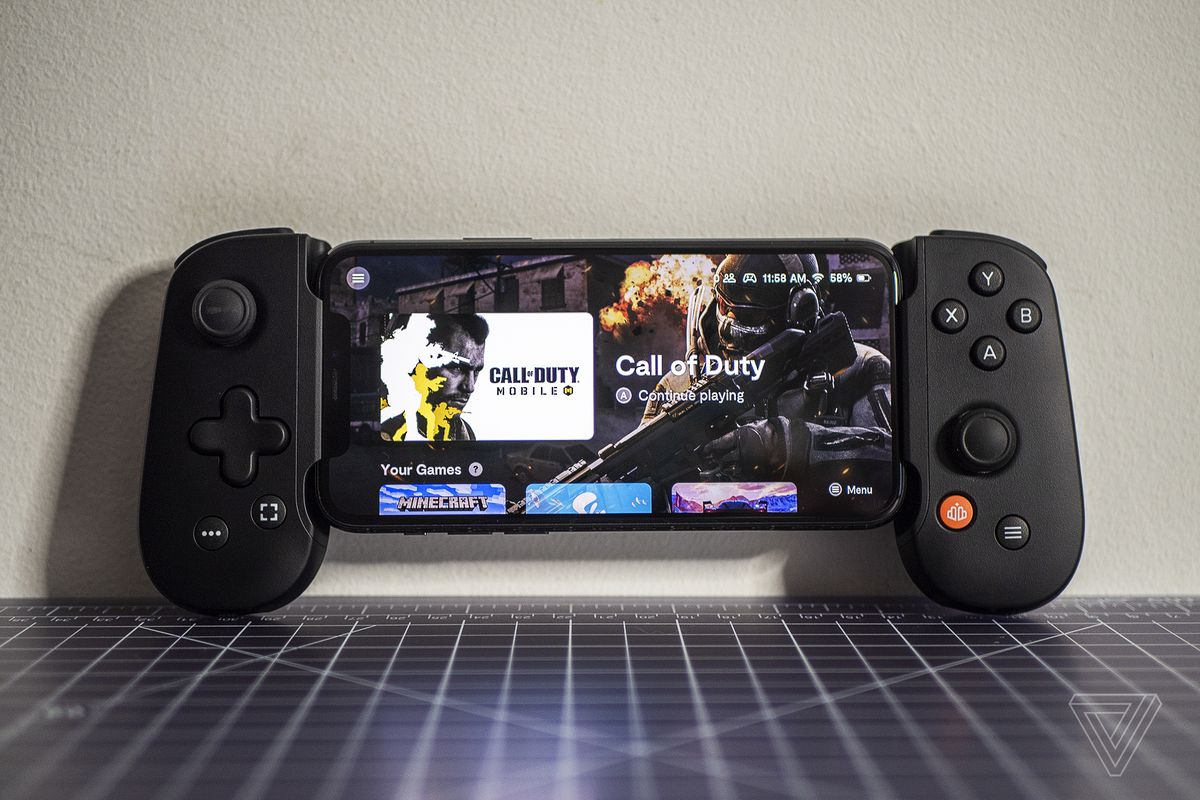controller: (138, 227, 1087, 616)
